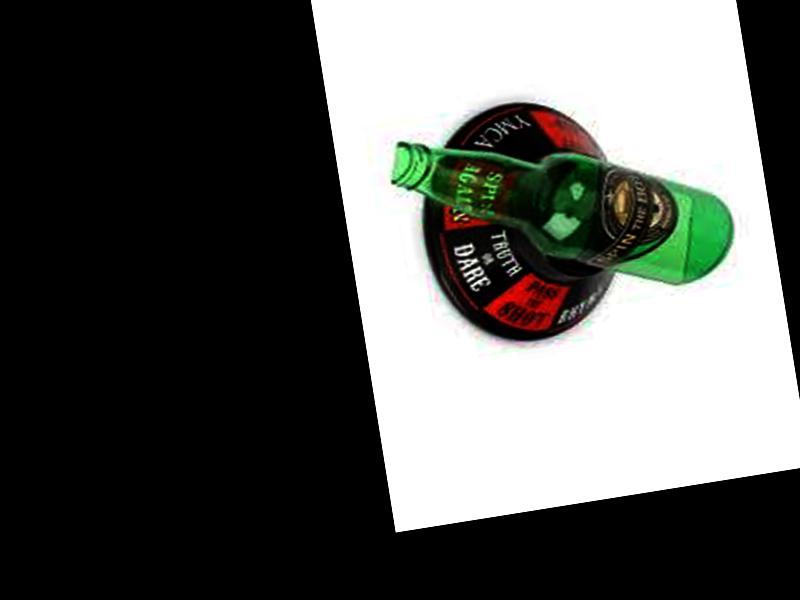Beer: (385, 94, 740, 329)
